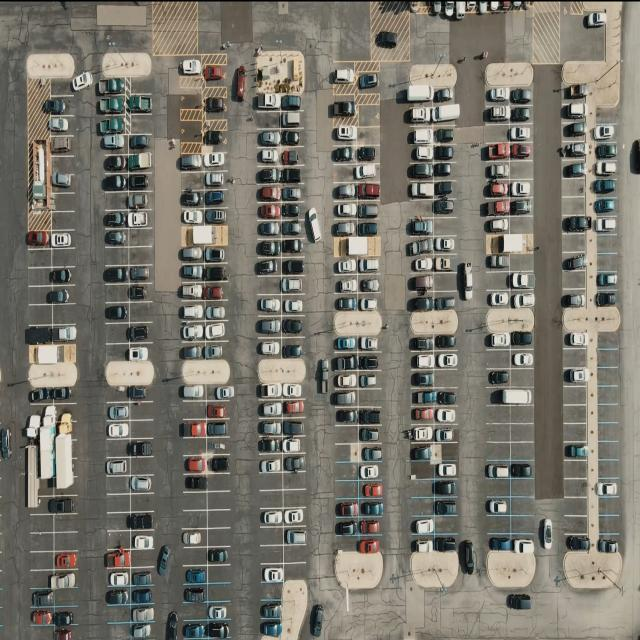space-empty: (28, 304, 53, 326), (560, 196, 588, 215), (106, 322, 130, 344), (53, 304, 77, 326), (562, 234, 588, 254), (104, 283, 130, 303), (128, 113, 154, 133), (104, 438, 130, 458), (510, 478, 536, 498), (562, 176, 588, 196), (255, 275, 281, 295), (28, 286, 54, 306), (130, 302, 153, 324), (180, 120, 203, 142), (562, 347, 586, 368), (106, 528, 130, 549), (484, 348, 509, 368), (563, 404, 588, 424), (434, 216, 459, 236), (335, 461, 360, 481), (30, 552, 55, 572), (182, 510, 208, 529), (128, 228, 154, 247), (408, 200, 434, 219), (180, 400, 206, 419), (181, 492, 207, 511), (181, 438, 207, 457), (510, 496, 536, 515), (487, 406, 513, 425), (356, 105, 379, 126), (28, 267, 52, 287), (596, 235, 620, 255), (563, 385, 587, 405), (261, 545, 285, 565), (132, 549, 156, 569), (563, 479, 587, 499), (596, 348, 620, 368), (207, 490, 231, 510), (208, 510, 232, 530), (335, 424, 359, 444), (105, 512, 129, 532), (260, 489, 284, 509), (208, 527, 232, 547), (563, 496, 587, 516), (510, 406, 534, 426), (561, 270, 586, 289), (105, 493, 130, 512), (28, 249, 53, 268), (563, 459, 588, 478), (54, 531, 79, 550), (29, 514, 54, 533), (485, 442, 510, 461), (511, 368, 536, 387), (184, 601, 209, 620), (106, 604, 132, 622), (510, 424, 536, 442), (104, 191, 130, 209), (127, 76, 153, 94), (254, 111, 280, 129), (484, 423, 510, 441), (261, 526, 284, 546), (30, 568, 53, 588), (130, 400, 153, 420), (104, 247, 128, 266), (106, 476, 130, 495), (30, 532, 54, 551), (484, 125, 508, 144), (130, 246, 154, 265), (131, 419, 155, 438), (563, 423, 587, 442), (486, 479, 510, 498), (510, 252, 534, 271), (208, 564, 232, 583), (411, 460, 435, 479), (511, 442, 535, 461), (488, 516, 512, 535), (410, 479, 434, 498), (282, 489, 306, 508), (596, 255, 620, 274), (130, 456, 154, 475), (436, 370, 460, 389), (335, 480, 359, 499), (512, 516, 536, 535), (182, 548, 207, 566), (130, 493, 155, 511), (486, 272, 511, 290), (598, 422, 620, 442), (597, 384, 619, 404), (53, 248, 76, 267), (283, 544, 306, 563), (52, 210, 75, 229), (596, 366, 619, 385), (207, 583, 230, 602), (283, 562, 306, 581), (54, 588, 78, 606), (436, 516, 460, 534), (179, 172, 203, 190), (282, 471, 306, 489), (509, 162, 533, 180), (411, 496, 435, 514), (355, 127, 379, 145), (260, 472, 284, 490), (564, 516, 588, 534), (510, 216, 534, 234), (206, 473, 230, 491), (51, 77, 75, 95), (596, 332, 620, 350), (105, 344, 129, 362), (438, 443, 459, 463), (597, 405, 619, 424), (53, 157, 75, 176), (358, 388, 380, 407), (52, 192, 75, 210), (55, 515, 78, 533), (262, 584, 285, 602), (105, 384, 128, 402), (434, 274, 457, 292), (598, 459, 619, 478), (598, 442, 619, 461), (336, 444, 358, 462), (598, 516, 620, 534), (596, 106, 618, 124), (334, 165, 357, 182), (180, 94, 202, 111), (336, 535, 358, 552), (108, 624, 131, 640), (598, 498, 618, 516), (30, 626, 54, 640)
space-occupied: (490, 384, 534, 405), (432, 102, 460, 125), (561, 213, 589, 234), (126, 94, 154, 115), (99, 134, 127, 155), (97, 96, 126, 116), (98, 114, 127, 134), (333, 64, 357, 88), (591, 176, 618, 197), (560, 120, 588, 140), (48, 116, 74, 137), (408, 179, 434, 200), (181, 527, 207, 548), (561, 102, 588, 122), (334, 98, 358, 120), (562, 287, 587, 308), (49, 93, 74, 114), (103, 229, 129, 249), (103, 266, 129, 286), (485, 86, 511, 106), (485, 458, 511, 478), (510, 271, 536, 291), (257, 316, 283, 336), (26, 230, 52, 250), (407, 105, 433, 125), (592, 215, 618, 235), (484, 178, 510, 198), (410, 442, 436, 462), (181, 620, 207, 640), (178, 281, 204, 301), (411, 386, 437, 406), (28, 382, 54, 402), (488, 386, 514, 406), (484, 332, 511, 351), (484, 214, 511, 233), (262, 562, 286, 583), (128, 153, 152, 174), (204, 64, 228, 85), (258, 338, 282, 359), (50, 135, 74, 156), (129, 134, 154, 154), (511, 348, 536, 368), (562, 252, 587, 272), (105, 304, 130, 324), (333, 125, 358, 145), (484, 104, 509, 124), (256, 238, 281, 258), (180, 418, 205, 438), (104, 456, 129, 476), (280, 275, 305, 295), (562, 140, 587, 160), (256, 294, 281, 314), (55, 606, 80, 626), (259, 454, 284, 474), (258, 202, 283, 222), (179, 321, 204, 341), (511, 288, 536, 308), (409, 272, 434, 292), (335, 352, 360, 372), (104, 419, 130, 438), (103, 173, 129, 192), (180, 382, 206, 401), (103, 209, 129, 228), (560, 160, 586, 179), (410, 516, 436, 535), (101, 153, 127, 172), (408, 163, 434, 182), (484, 142, 510, 161), (255, 258, 281, 277), (408, 237, 434, 256), (334, 371, 360, 390), (408, 216, 434, 235), (259, 398, 285, 417), (406, 86, 432, 105), (99, 77, 126, 95), (484, 199, 511, 217), (130, 321, 152, 343), (180, 56, 202, 78), (281, 316, 304, 337), (130, 474, 154, 494), (178, 152, 202, 172), (511, 459, 535, 479), (204, 151, 228, 171), (130, 264, 154, 284), (52, 267, 76, 287), (564, 442, 588, 462), (356, 181, 380, 201), (280, 296, 304, 316), (56, 551, 80, 571), (105, 400, 129, 420), (258, 218, 282, 238), (258, 146, 282, 166), (487, 495, 511, 515), (410, 291, 434, 311), (180, 301, 204, 321), (183, 474, 207, 494), (434, 290, 458, 310), (358, 444, 382, 464), (204, 281, 228, 301), (354, 163, 378, 183), (107, 567, 131, 587), (563, 332, 588, 351), (509, 141, 534, 160), (203, 129, 228, 148), (435, 350, 460, 369), (179, 264, 204, 283), (335, 407, 360, 426), (128, 173, 153, 192), (487, 368, 512, 387), (409, 424, 434, 443), (486, 288, 511, 307), (259, 418, 284, 437), (409, 127, 434, 146), (128, 210, 154, 228), (560, 84, 586, 102), (592, 198, 618, 216), (333, 388, 359, 406), (204, 320, 226, 341), (281, 338, 303, 359), (130, 282, 153, 302), (355, 144, 378, 164), (52, 229, 75, 249), (204, 170, 227, 190), (333, 143, 356, 163), (356, 201, 379, 221), (184, 584, 207, 604), (356, 72, 379, 92), (131, 439, 154, 459), (595, 288, 618, 308), (206, 384, 233, 401), (261, 509, 285, 528), (334, 181, 358, 200), (563, 366, 587, 385), (106, 550, 130, 569), (182, 565, 206, 584), (592, 124, 616, 143), (256, 166, 280, 185), (254, 93, 278, 112), (31, 608, 55, 627), (280, 258, 304, 277), (281, 453, 305, 472), (132, 530, 156, 549), (131, 513, 155, 532), (434, 479, 458, 498), (129, 190, 153, 209), (566, 533, 590, 552), (411, 351, 435, 370), (334, 201, 358, 220), (52, 284, 76, 303), (412, 368, 436, 387), (358, 481, 382, 500), (357, 534, 381, 553), (204, 264, 228, 283), (486, 161, 510, 180), (509, 198, 534, 216), (180, 208, 205, 226), (488, 534, 513, 552), (409, 254, 434, 272), (202, 342, 227, 360), (280, 146, 302, 166), (208, 600, 230, 620), (54, 494, 76, 514), (597, 534, 619, 554), (132, 566, 154, 586), (336, 274, 358, 294), (261, 620, 283, 640), (52, 174, 75, 193), (511, 88, 534, 107), (31, 589, 54, 608), (55, 568, 78, 587), (204, 188, 227, 207), (510, 125, 533, 144), (510, 178, 533, 197), (283, 526, 306, 545), (262, 600, 285, 619), (207, 418, 230, 437), (206, 455, 229, 474), (281, 218, 304, 237), (204, 97, 227, 116), (129, 343, 152, 362), (54, 324, 77, 343), (358, 424, 381, 443), (207, 402, 230, 421), (208, 621, 231, 640), (180, 189, 204, 207), (434, 236, 458, 254), (336, 336, 360, 354), (358, 462, 382, 480), (511, 332, 535, 350), (258, 130, 282, 148), (258, 184, 282, 202), (281, 238, 305, 256), (336, 498, 360, 516), (358, 518, 382, 536), (334, 218, 358, 236), (335, 295, 359, 313), (412, 407, 436, 425), (259, 437, 283, 455), (358, 498, 382, 516), (281, 437, 305, 455), (486, 254, 510, 272), (180, 245, 204, 263), (335, 258, 359, 276), (512, 534, 536, 552), (409, 145, 434, 162), (208, 547, 230, 566), (434, 162, 456, 181), (283, 508, 305, 527), (358, 275, 380, 294), (280, 129, 302, 148), (205, 302, 227, 321), (434, 255, 456, 274), (436, 407, 458, 426), (282, 398, 304, 417), (436, 424, 458, 443), (52, 384, 74, 403), (435, 200, 458, 218), (434, 144, 457, 162), (510, 106, 533, 124), (596, 272, 619, 290), (182, 456, 205, 474), (435, 460, 458, 478), (357, 408, 380, 426), (280, 202, 303, 220), (594, 142, 617, 160), (204, 245, 227, 263), (412, 534, 435, 552), (29, 326, 53, 343), (336, 518, 360, 535), (108, 588, 132, 605), (593, 161, 617, 178), (434, 535, 459, 551), (437, 387, 458, 406), (435, 179, 457, 197), (280, 110, 302, 128), (597, 480, 619, 498), (436, 497, 458, 515), (133, 587, 155, 605), (281, 184, 303, 202), (434, 87, 456, 105), (131, 622, 153, 640), (282, 418, 304, 436), (356, 295, 378, 313), (434, 127, 457, 144), (435, 335, 458, 352), (180, 343, 203, 360), (410, 336, 434, 352), (258, 383, 282, 399), (358, 371, 378, 390), (357, 256, 378, 274), (357, 353, 378, 371), (280, 94, 302, 111), (356, 219, 378, 236), (204, 209, 226, 226), (132, 604, 154, 621), (357, 337, 378, 354), (281, 167, 302, 184), (282, 383, 304, 399), (130, 386, 152, 402), (54, 626, 75, 640)
